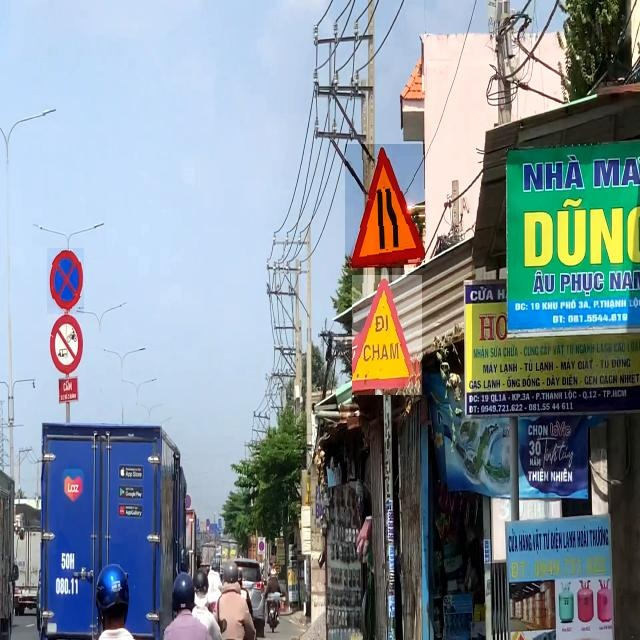bien_nguy_hiem: (345, 144, 425, 268), (352, 275, 422, 395), (47, 248, 84, 314)
